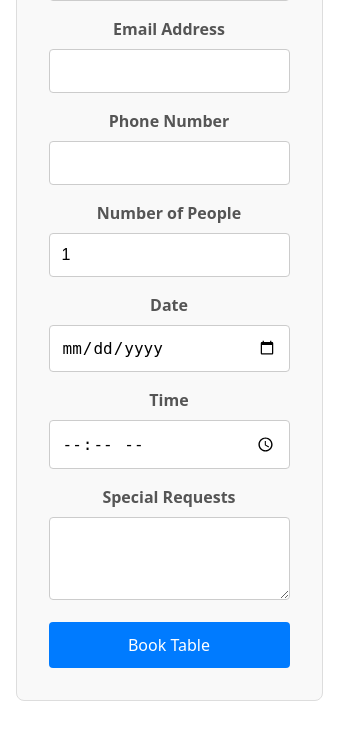
Test case: BookingForm › shows validation errors for empty required fields
This screenshot has width=340, height=747.
(page scrolled)
Click the button "Book Table".
click(169, 645)  # box [48,622,290,668]
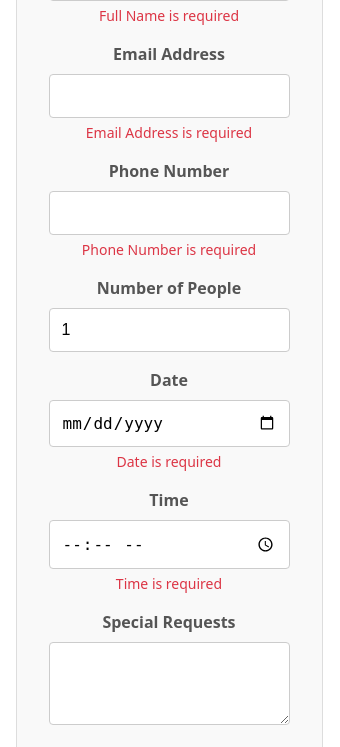
Result: the text "Full Name is required" is shown at [99,6,239,25]
Result: the text "Email Address is required" is shown at [86,123,252,142]
Result: the text "Phone Number is required" is shown at [82,240,256,259]
